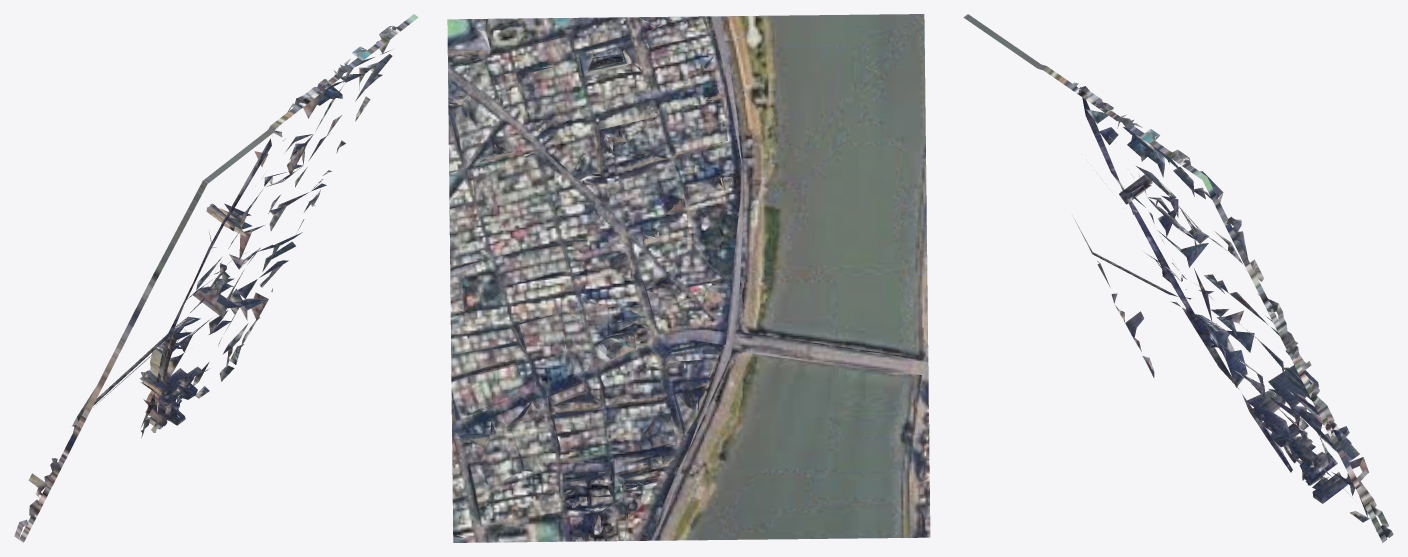
The picture shows the model from 3 angles, left to right: view 1: azimuth 30°, elevation 25°; view 2: azimuth 150°, elevation 25°; view 3: azimuth 270°, elevation 25°; orthographic projection. The views are drawn at different scales.
Bounding box in the file's own units: 1231 × 1120 × 1050.
Materials: 2 (2 with a texture image).
